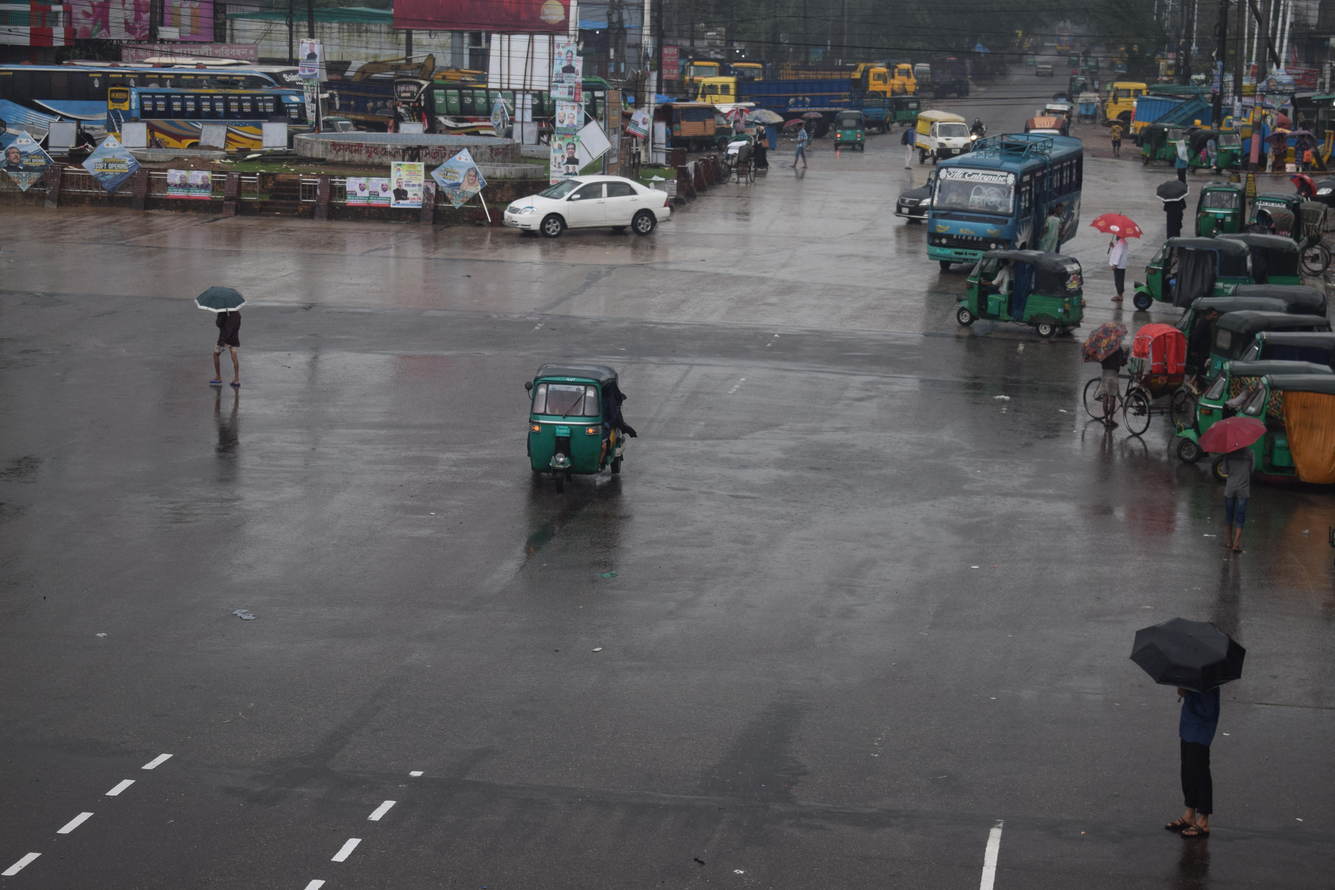Bus: (0, 43, 288, 160), (77, 56, 338, 174), (891, 129, 1104, 273)
Car: (1069, 303, 1208, 473), (480, 158, 688, 246), (898, 104, 987, 166)
Truck: (690, 56, 890, 139), (1099, 69, 1236, 135)
